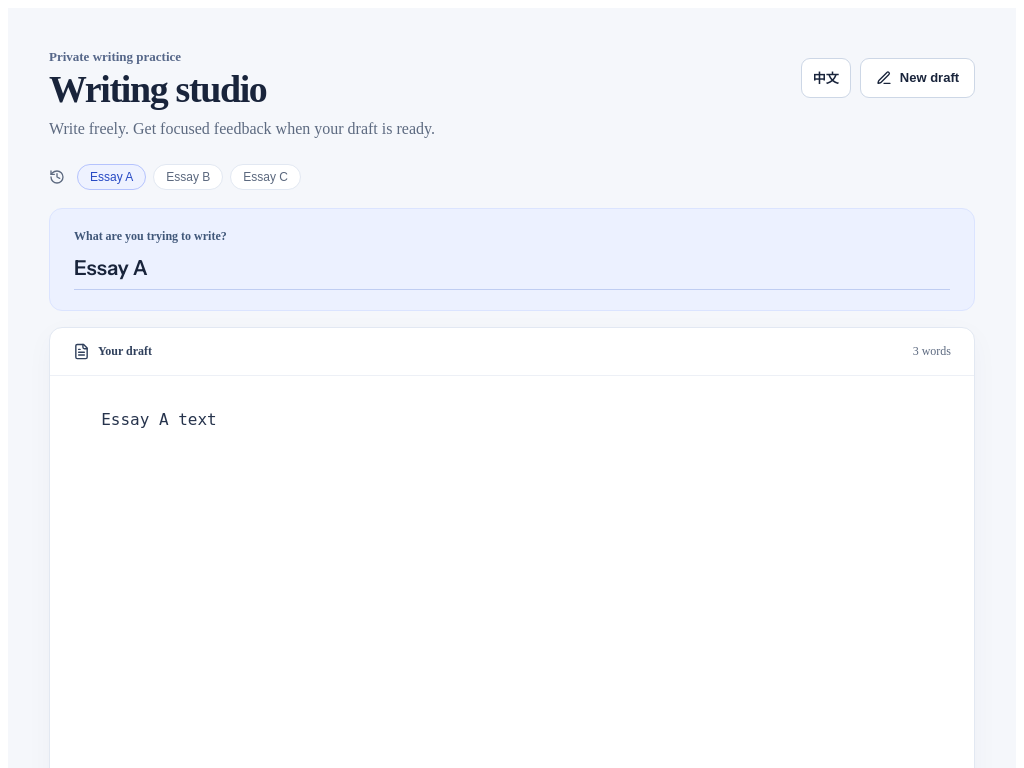
Test: PracticeStudio draft history › clears the previous draft history while the next one loads
Click the button "Essay B" at (188, 177), box x1=153 y1=164 x2=223 y2=190
(page scrolled)
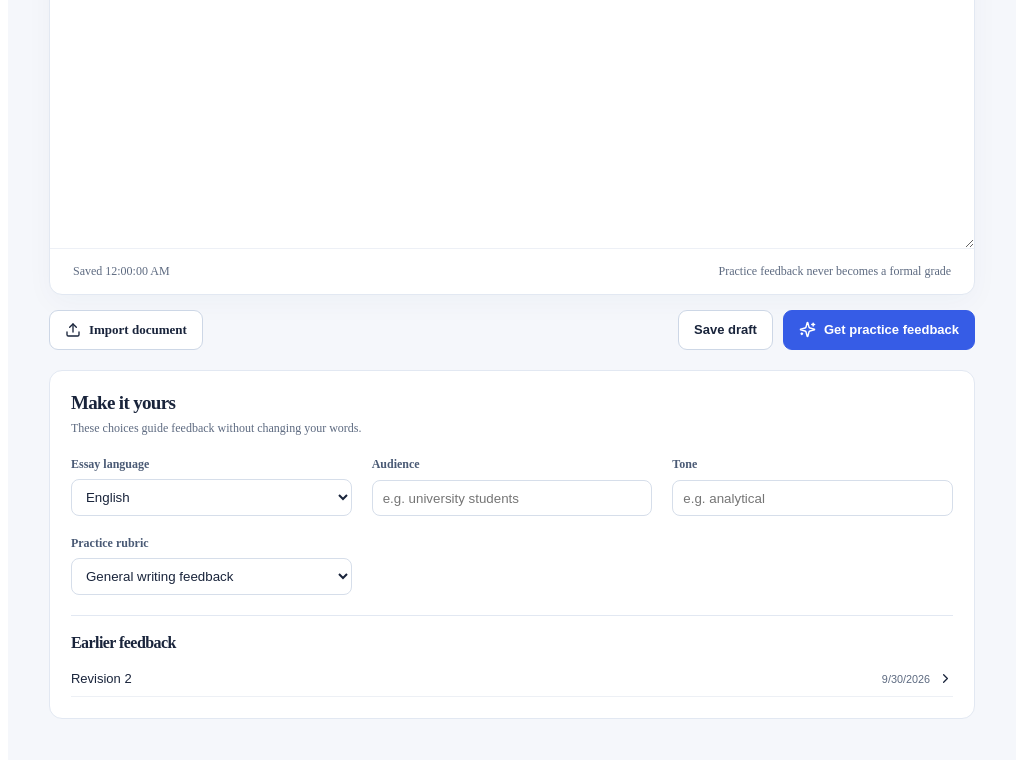
Check: the text "Revision 2" is shown, box x1=71 y1=671 x2=132 y2=686
